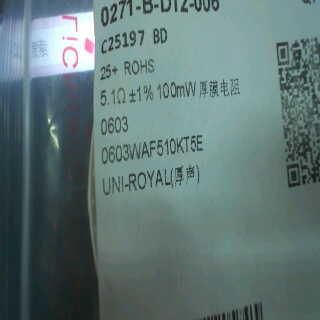5.1R: (96, 85, 129, 109)
